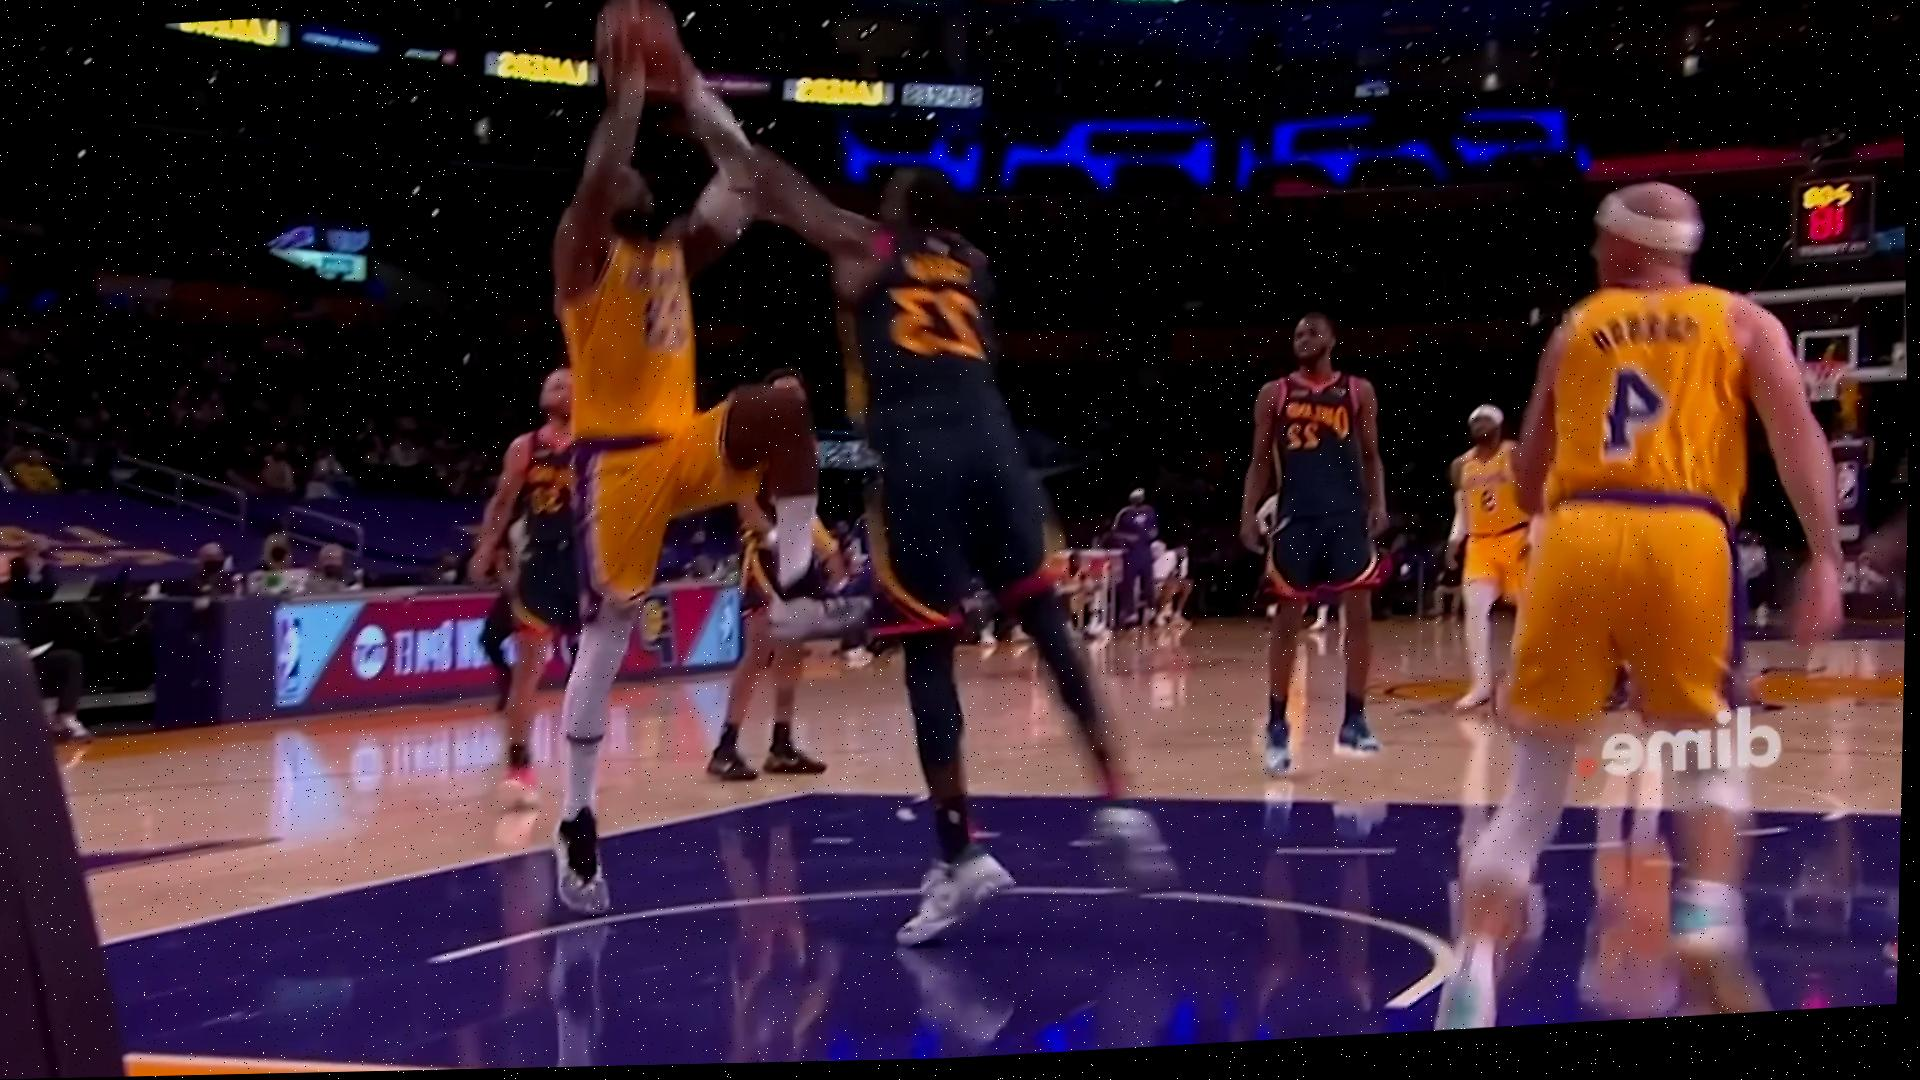no_foul: (479, 0, 1093, 977)
